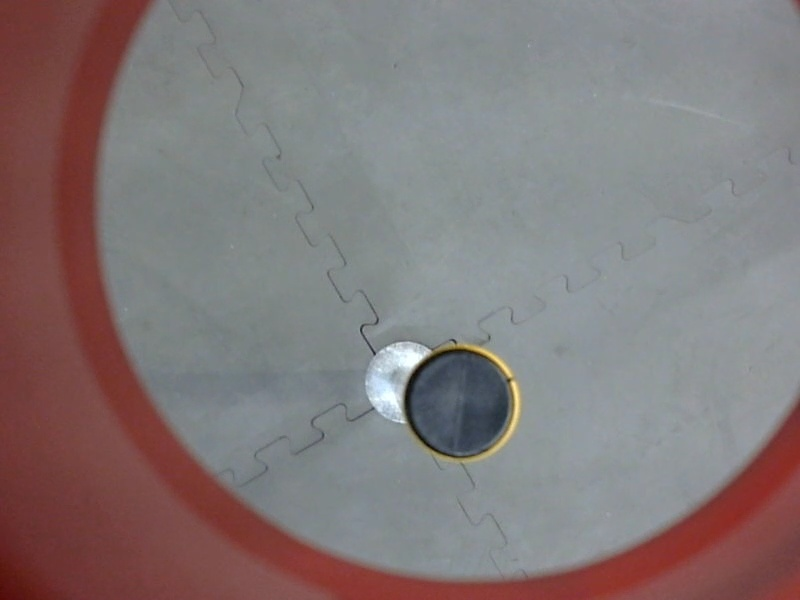tip: (398, 334, 527, 471)
